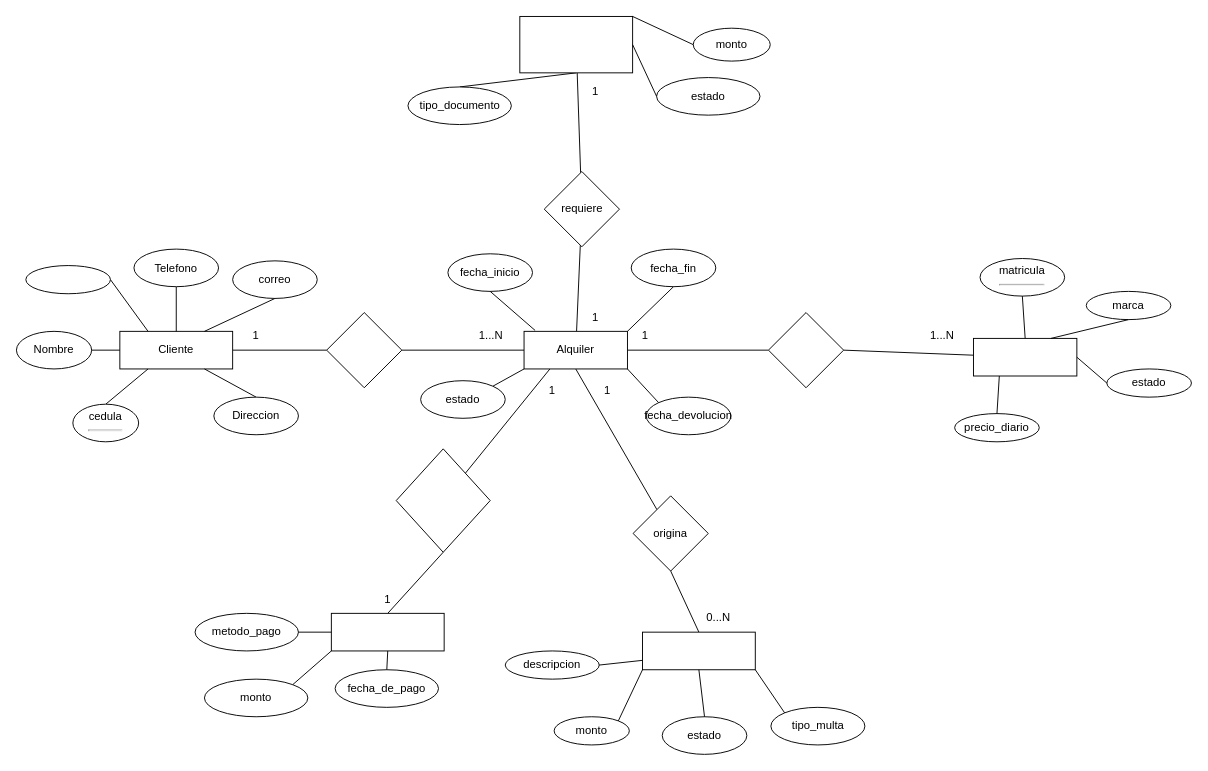
This 1208x771 diagram has some shape labels left out. Each missing label, with the centre of its shape:
Apellido: point 67,279
Garantía: point 576,44
genera: point 442,500
Multa: point 698,650
Pago: point 387,631
participa en: point 806,350
realiza: point 364,350
Vehiculo: point 1025,356
